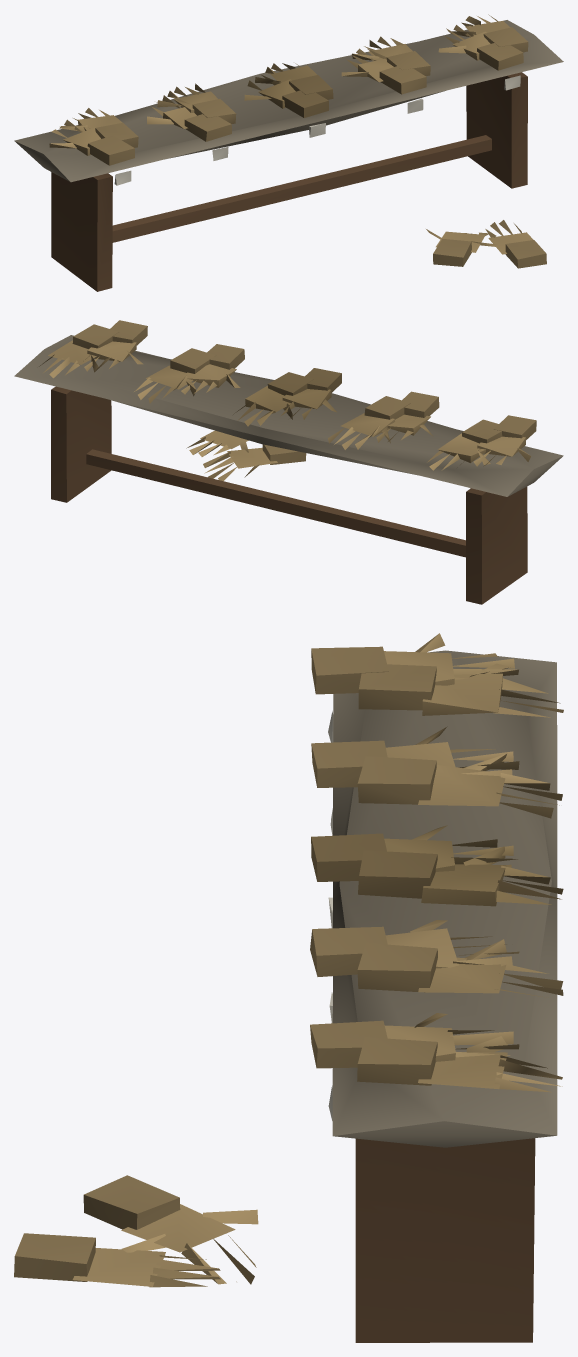
File: glove_bench_b_lod2.glb
3 renders of one model, top to bottom at view 1: azimuth 30°, elevation 25°; view 2: azimuth 150°, elevation 25°; view 3: azimuth 270°, elevation 25°, orthographic. The views are drawn at different scales.
Parts seen in each view (by area): view 1: Surface.001; view 2: Surface.001; view 3: Surface.001.
Boxes of the visible parts, bbox=[...] form: Surface.001: bbox=[14, 14, 563, 291]; Surface.001: bbox=[14, 320, 563, 604]; Surface.001: bbox=[14, 633, 563, 1342].
Size of the model in its own units: 1.9 by 0.5747 by 0.9309.
